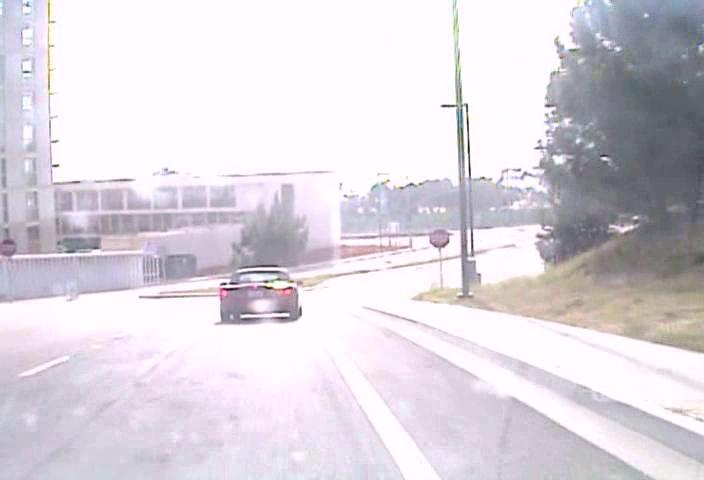stop: (429, 228, 450, 249)
